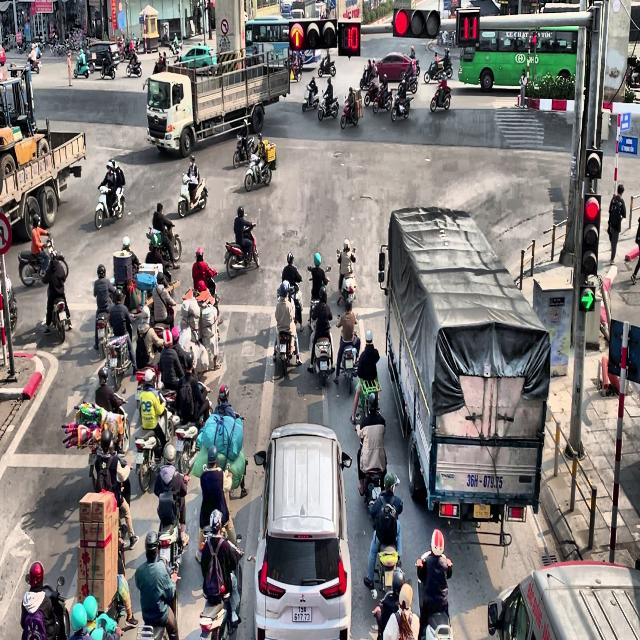BUS: (458, 13, 584, 91)
CAR: (250, 422, 352, 640), (487, 559, 640, 639), (173, 44, 218, 75), (374, 52, 415, 81)
MOTORBIKE: (199, 543, 244, 639), (134, 405, 179, 493), (173, 396, 212, 476), (18, 233, 68, 287), (136, 578, 180, 639), (156, 491, 186, 577), (224, 222, 259, 278), (357, 444, 387, 507), (309, 318, 334, 386), (336, 326, 361, 394), (105, 332, 134, 390), (146, 225, 181, 269), (307, 266, 331, 330), (273, 320, 299, 376), (94, 183, 125, 229), (354, 375, 382, 424), (178, 172, 207, 218), (244, 151, 272, 192), (51, 298, 71, 342), (96, 310, 112, 358), (233, 134, 255, 168), (372, 81, 393, 113), (318, 90, 339, 121), (391, 92, 412, 121), (430, 83, 451, 112), (341, 95, 358, 128), (424, 59, 446, 83), (302, 84, 319, 112), (398, 71, 418, 94), (126, 51, 142, 77), (100, 53, 116, 79), (364, 81, 380, 106), (318, 56, 336, 77), (360, 67, 374, 89), (290, 57, 302, 81), (168, 40, 182, 58), (174, 43, 182, 63)
TRAFFIC_LIGHT: (581, 192, 601, 276), (288, 18, 337, 51), (392, 7, 441, 38), (455, 7, 480, 45), (338, 21, 361, 56), (584, 148, 602, 179)
TRUCK: (378, 204, 551, 544), (144, 44, 290, 158)
